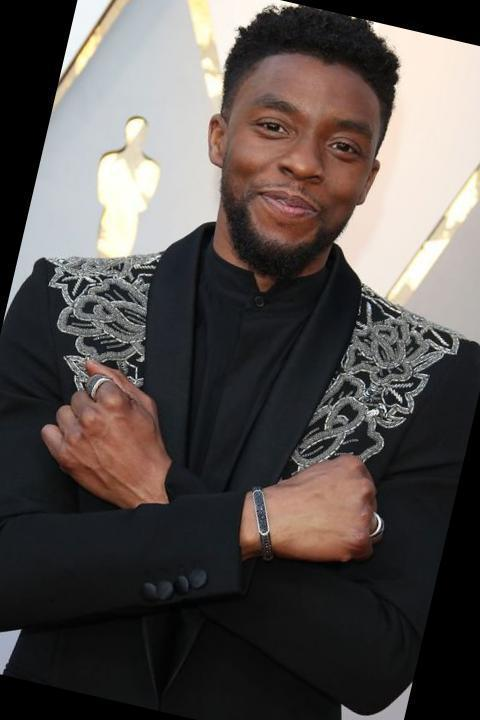Sober: (227, 65, 367, 241)
